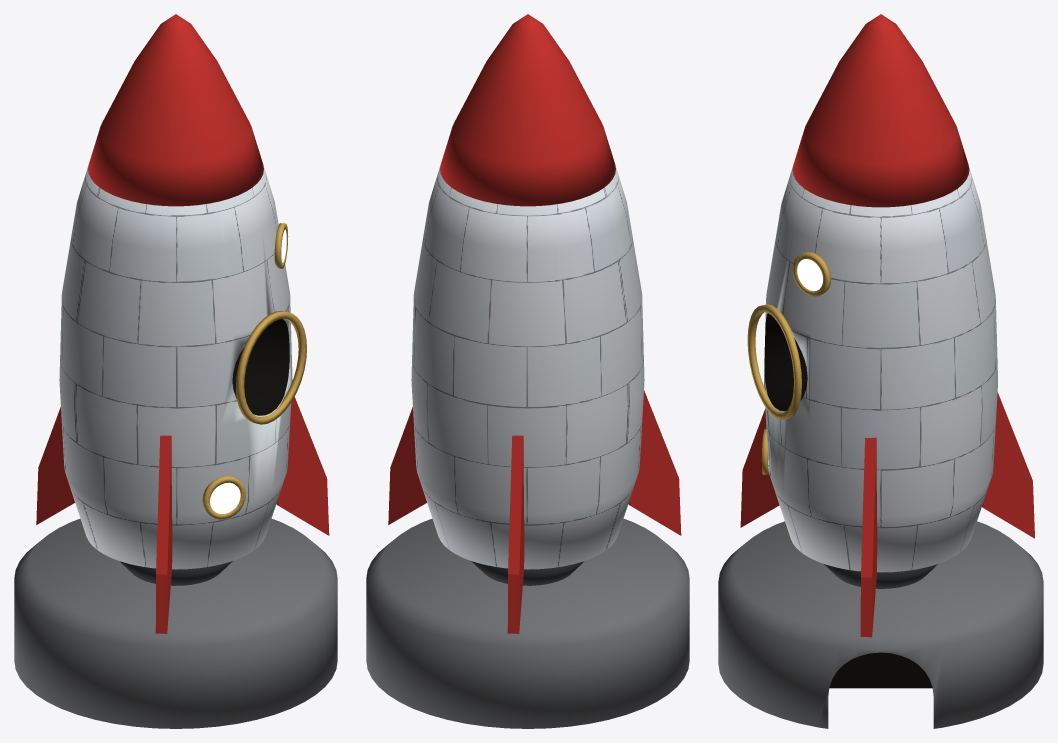
Rendered from rocket.glb.
The picture shows the model from 3 angles, left to right: view 1: azimuth 30°, elevation 25°; view 2: azimuth 150°, elevation 25°; view 3: azimuth 270°, elevation 25°; orthographic projection.
Visible parts, largest first — view 1: hull, pad, red, brass.001, nozzle, ports; view 2: hull, pad, red, nozzle; view 3: hull, pad, red, brass.001, nozzle, ports.
Part boxes in pixels (left/top/right/bottom): hull: left=59, top=165, right=292, bottom=569; pad: left=14, top=518, right=337, bottom=728; red: left=36, top=14, right=329, bottom=633; brass.001: left=202, top=223, right=306, bottom=519; nozzle: left=119, top=561, right=232, bottom=585; ports: left=210, top=229, right=286, bottom=513; hull: left=411, top=165, right=644, bottom=569; pad: left=366, top=518, right=689, bottom=728; red: left=388, top=14, right=681, bottom=633; nozzle: left=471, top=561, right=584, bottom=585; hull: left=764, top=167, right=997, bottom=572; pad: left=718, top=521, right=1043, bottom=728; red: left=740, top=14, right=1034, bottom=637; brass.001: left=747, top=251, right=831, bottom=474; nozzle: left=824, top=564, right=937, bottom=588; ports: left=768, top=259, right=822, bottom=467.
Bounding box in the file's own units: 6.9 × 15 × 6.8.
Materials: 8 (1 with a texture image).
